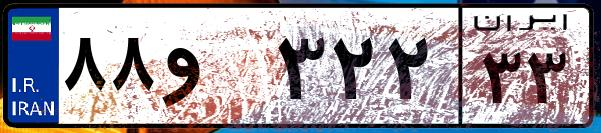2: (385, 28, 445, 110), (330, 28, 385, 110)
3: (270, 28, 330, 110), (475, 38, 525, 113), (525, 38, 570, 115)
8: (57, 26, 110, 100), (110, 28, 158, 98)
و: (158, 20, 270, 120)
